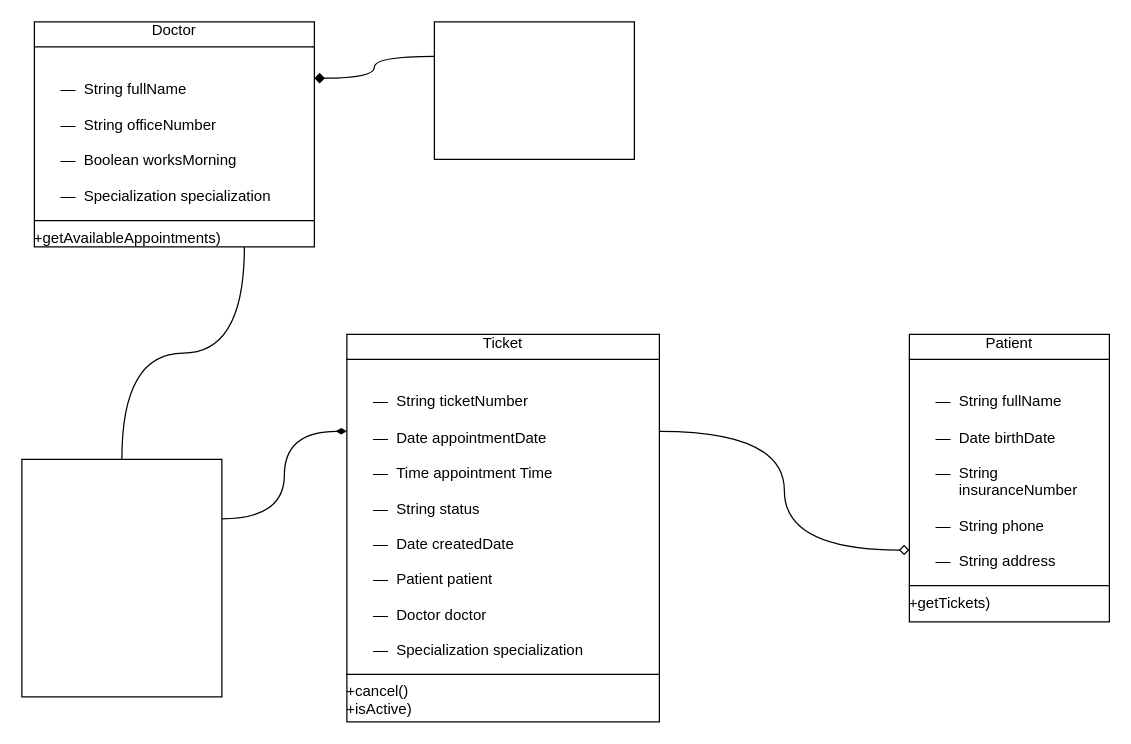
Image size: 1131x744. Some labels were removed from this diagram. The shapes that lost their labels are listed below. From the top down, each one's centre as x and y in pixels, then its label:
At point 533,90: "Specialization String name String description +getDoctors)".
At point 121,577: "TimeSlot String date String time String doctor Boolean isAvailable +toString()".
